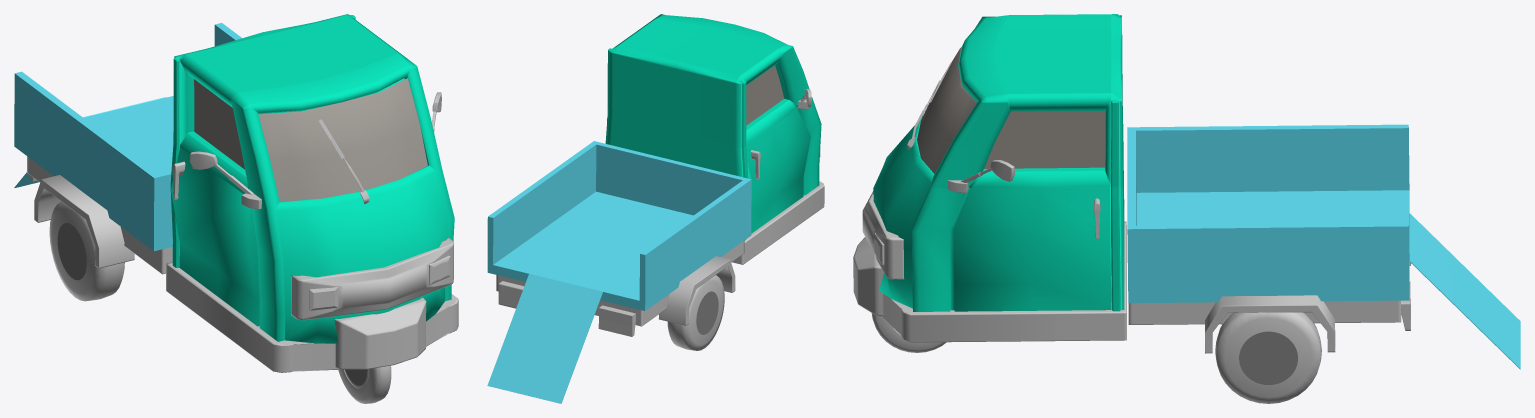
Rendered from Ape car.fbx.
The picture shows the model from 3 angles, left to right: view 1: azimuth 30°, elevation 25°; view 2: azimuth 150°, elevation 25°; view 3: azimuth 270°, elevation 25°; orthographic projection. The views are drawn at different scales.
Parts seen in each view (by area): view 1: Layer 01, APECAR_2, APECAR_5, APECAR_4; view 2: Layer 01, APECAR_5, APECAR_3, APECAR_2; view 3: Layer 01, APECAR_2, APECAR_5.
Part boxes in pixels (left/top/right/bottom): Layer 01: left=14, top=14, right=458, bottom=385; APECAR_2: left=194, top=78, right=427, bottom=201; APECAR_5: left=49, top=201, right=391, bottom=403; APECAR_4: left=309, top=255, right=450, bottom=310; Layer 01: left=487, top=14, right=824, bottom=403; APECAR_5: left=667, top=275, right=724, bottom=350; APECAR_3: left=498, top=281, right=635, bottom=336; APECAR_2: left=746, top=65, right=784, bottom=125; Layer 01: left=853, top=14, right=1520, bottom=384; APECAR_2: left=917, top=47, right=1105, bottom=173; APECAR_5: left=871, top=312, right=1321, bottom=403.
Size of the model in its own units: 140 by 156 by 318.
